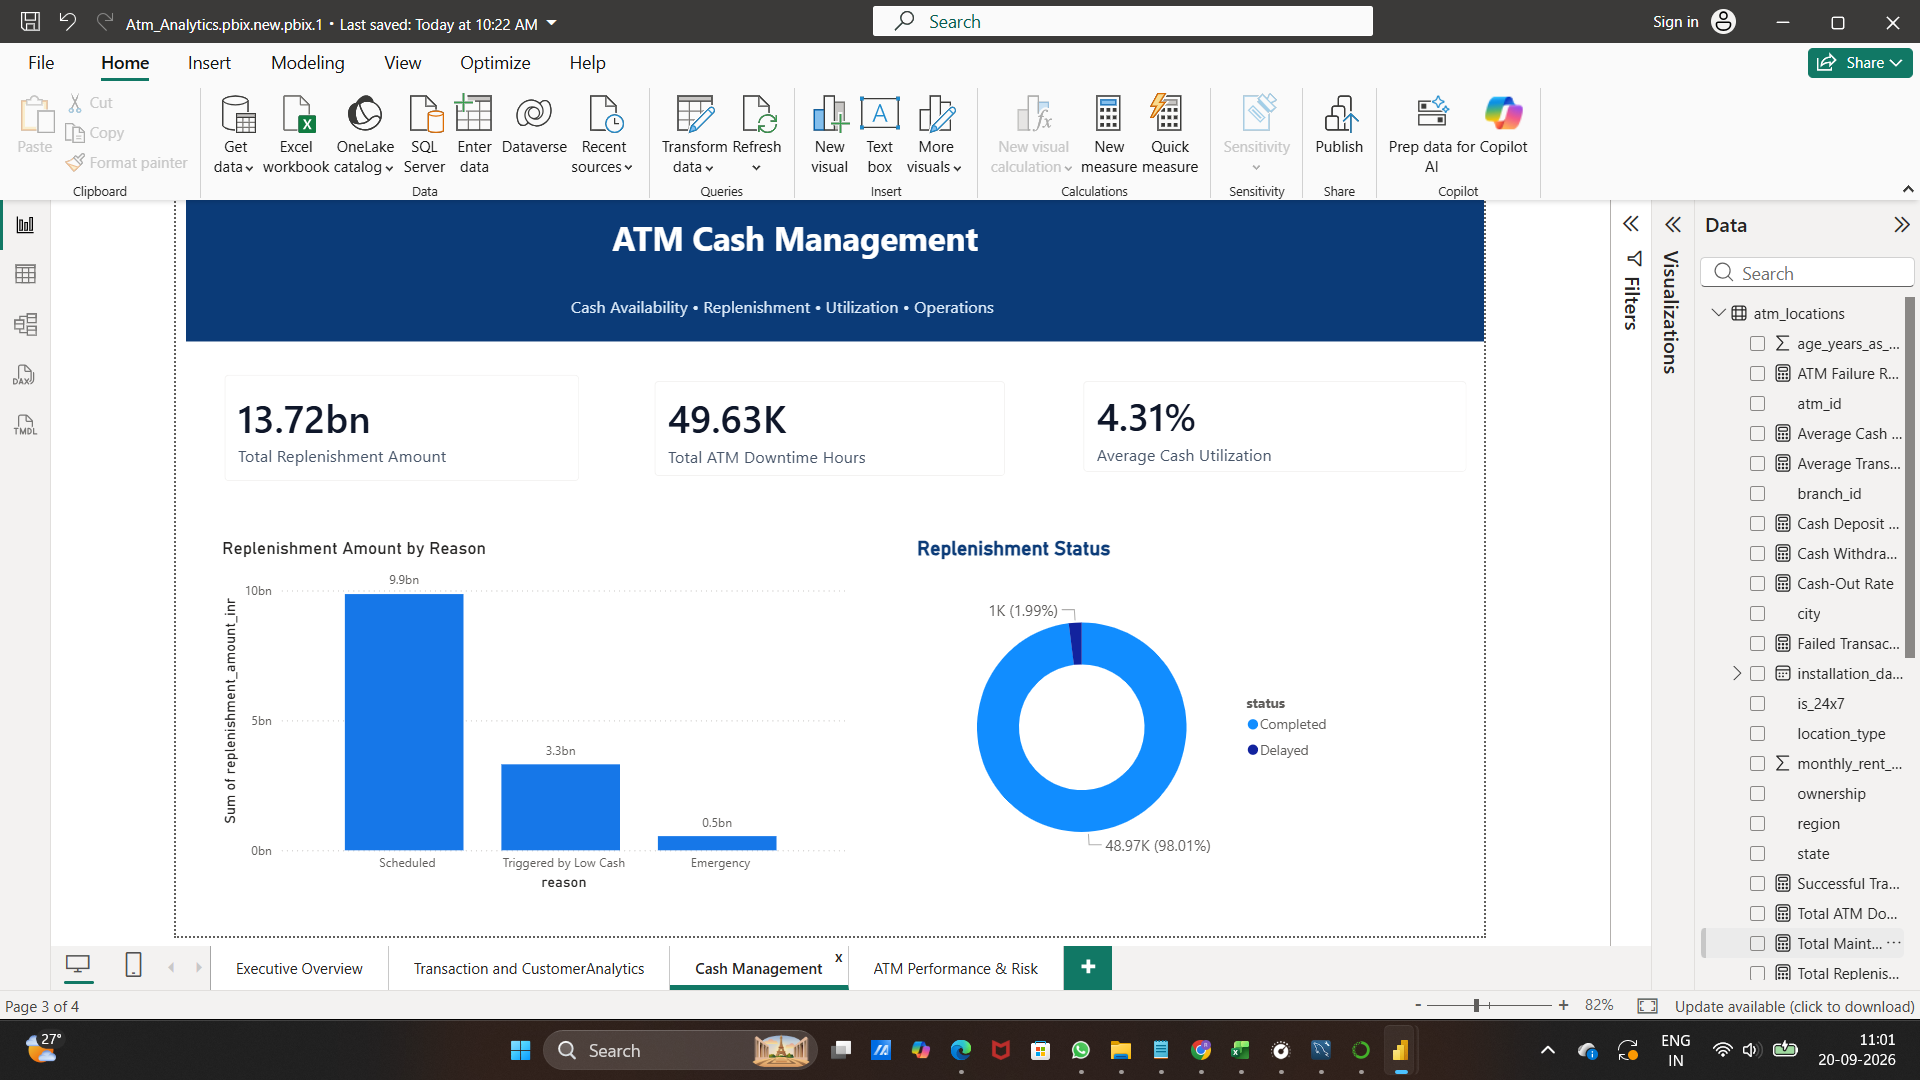

What the dashboard file says about the page in this screenshot:
{"tool":"powerbi","page":{"name":"Cash Management","canvas":[1280,720],"ordinal":2},"visuals":[{"type":"textbox","box":[9.6,0,1270.7,127.6],"z":0},{"type":"cardVisual","fields":{"Data":["atm_locations.Total Replenishment Amount"]},"box":[0,137.2,314.2,181.1],"z":1000},{"type":"cardVisual","fields":{"Data":["atm_locations.Total ATM Downtime Hours"]},"box":[452.8,131.7,307.4,192.1],"z":2000},{"type":"cardVisual","fields":{"Data":["atm_locations.Average Cash Utilization"]},"box":[887.8,131.7,307.4,192.1],"z":3000},{"type":"clusteredColumnChart","fields":{"Category":["cash_replenishments.reason"],"Y":["atm_locations.Total Replenishment Amount"]},"box":[30.2,329.3,444.6,391.1],"z":4000},{"type":"clusteredColumnChart","title":" Replenishment status","fields":{"Category":["cash_replenishments.status"],"Y":["atm_locations.Total Replenishment Amount"]},"box":[537.9,329.3,742.4,391.1],"z":5000}]}

Visuals, with their boxes on the page's 1280x720 design canvas (x1, y1, x2, y2). These are canvas units, not pixel positions in the 1920x1080 screenshot, which may show the page scaled, cropped or inside an application window:
textbox: Rect(10, 0, 1280, 128)
cardVisual - atm_locations.Total Replenishment Amount: Rect(0, 137, 314, 318)
cardVisual - atm_locations.Total ATM Downtime Hours: Rect(453, 132, 760, 324)
cardVisual - atm_locations.Average Cash Utilization: Rect(888, 132, 1195, 324)
clusteredColumnChart - cash_replenishments.reason x atm_locations.Total Replenishment Amount: Rect(30, 329, 475, 720)
" Replenishment status" clusteredColumnChart: Rect(538, 329, 1280, 720)
